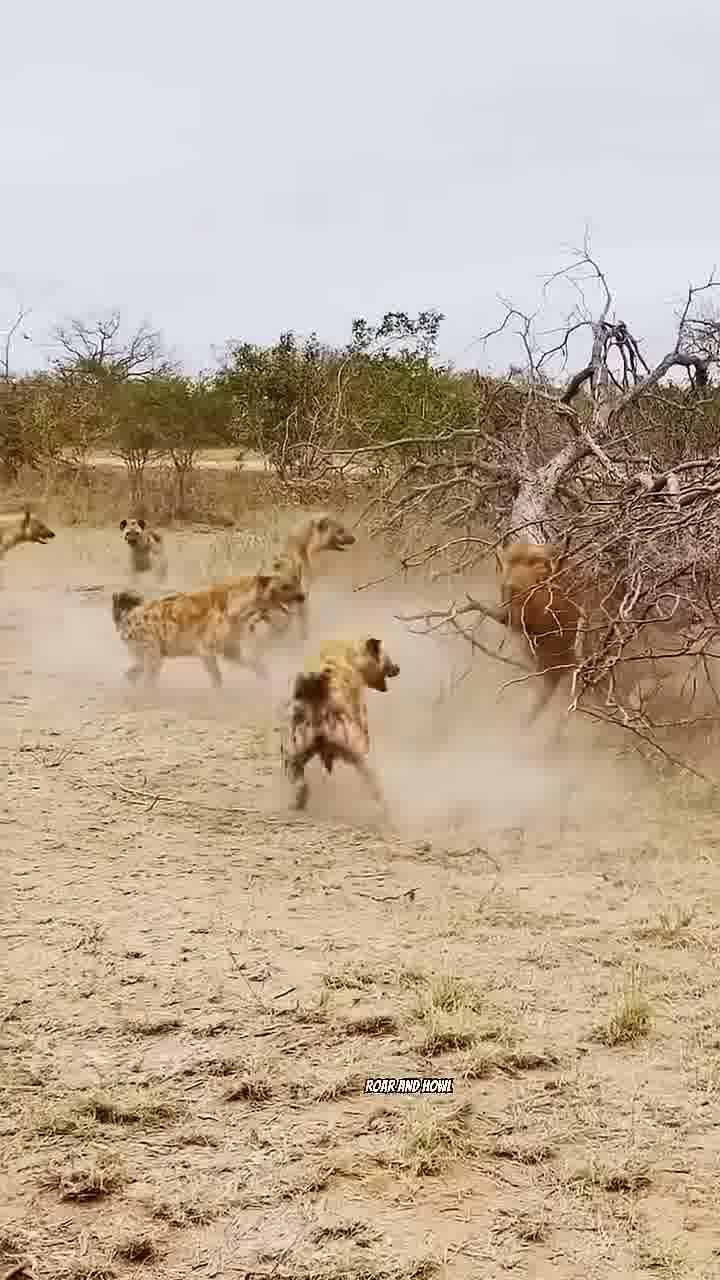hyenas: (117, 538, 513, 886)
